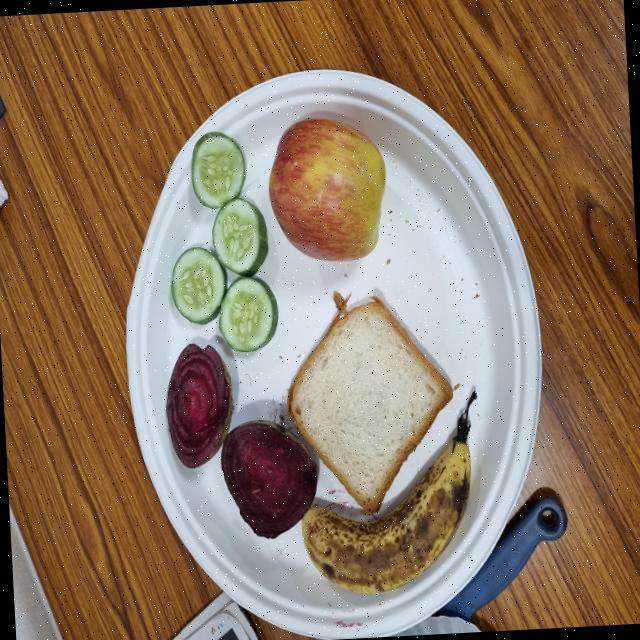apple: (290, 366, 399, 527)
banana: (42, 401, 177, 629)
cucumber: (237, 234, 298, 321), (219, 295, 279, 378), (324, 265, 384, 340), (276, 290, 336, 365)
